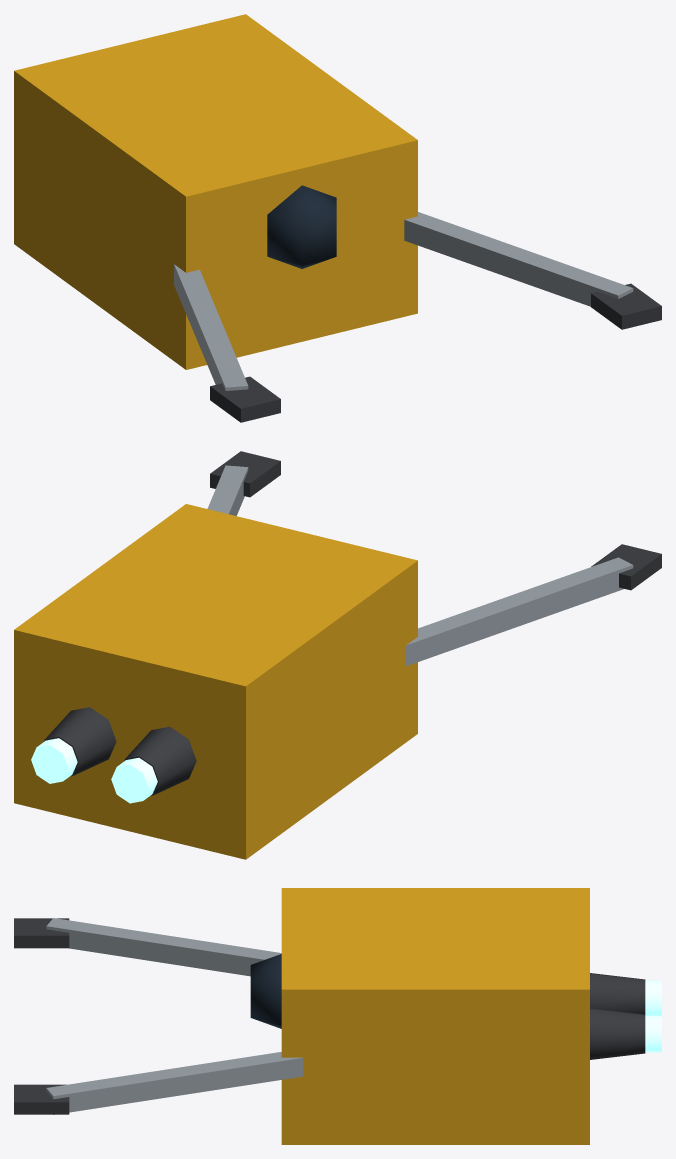
File: space_ship_builder_drone_mk3.glb
3 renders of one model, top to bottom at view 1: azimuth 30°, elevation 25°; view 2: azimuth 150°, elevation 25°; view 3: azimuth 270°, elevation 25°, orthographic. The views are drawn at different scales.
Parts seen in each view (by area): view 1: body, arm_1, arm_0; view 2: body, arm_0, engine_0, engine_1, arm_1; view 3: body, arm_1, arm_0, engine_1, engine_0.
Part boxes in pixels (x1,y1,x2,y2): body: [14, 14, 417, 369]; arm_1: [404, 212, 661, 329]; arm_0: [174, 264, 280, 422]; body: [14, 504, 417, 859]; arm_0: [406, 544, 661, 666]; engine_0: [111, 726, 196, 803]; engine_1: [31, 707, 116, 783]; arm_1: [207, 451, 280, 515]; body: [250, 888, 589, 1144]; arm_1: [14, 1052, 303, 1114]; arm_0: [14, 918, 281, 976]; engine_1: [590, 1008, 661, 1059]; engine_0: [590, 973, 661, 1015].
Size of what is drawn, in the model's own units: 3.15 by 1.24 by 4.69.
